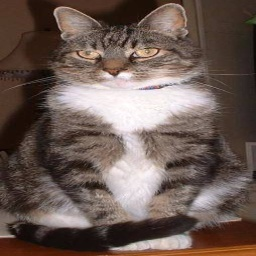cat: (5, 6, 251, 248)
